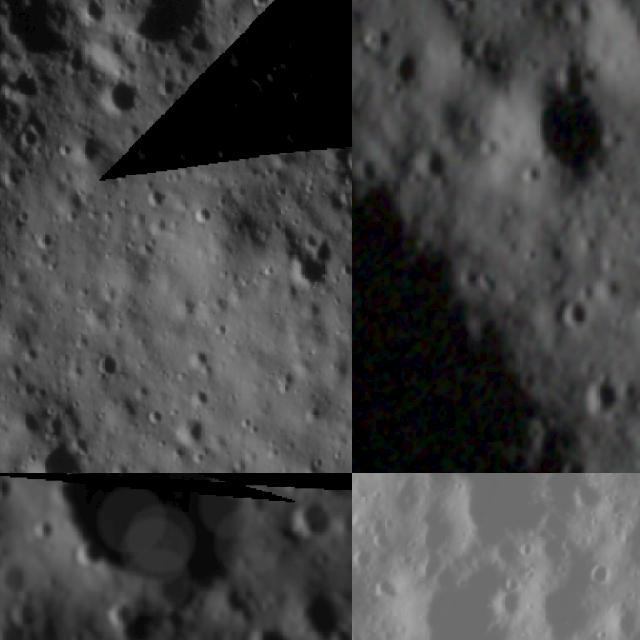crater: (25, 473, 282, 634), (375, 528, 541, 640), (502, 63, 627, 203), (267, 218, 350, 298), (268, 573, 352, 640), (111, 0, 217, 50), (89, 63, 157, 132), (247, 473, 352, 516), (574, 362, 638, 428), (609, 0, 640, 100), (573, 544, 629, 598), (484, 575, 536, 630), (561, 473, 618, 523), (21, 435, 95, 473), (286, 494, 340, 546), (380, 40, 430, 91), (551, 292, 604, 340), (0, 553, 38, 606), (90, 344, 136, 384), (100, 600, 140, 637), (432, 0, 486, 20), (28, 515, 59, 549), (0, 611, 34, 640), (0, 473, 19, 506), (488, 0, 542, 7)
